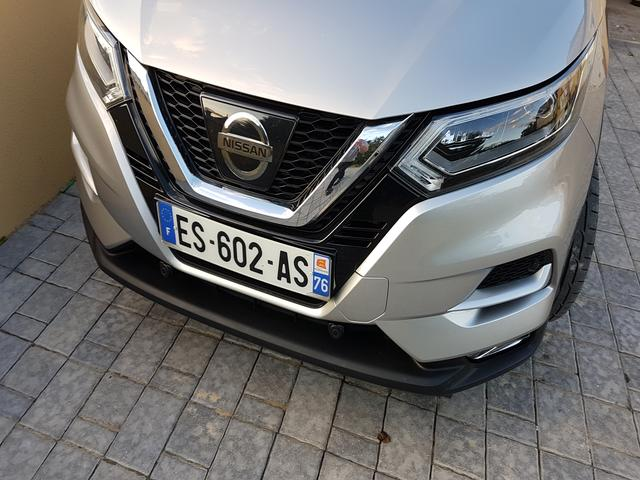Quashquai: (145, 181, 350, 325)
